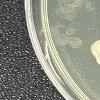white: (88, 40, 100, 65)
